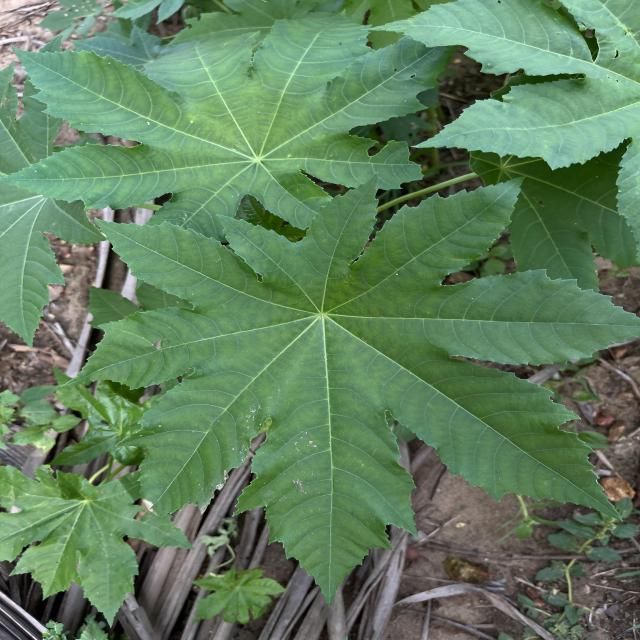Ricinus communis linn: (55, 168, 640, 612), (2, 4, 456, 246)
